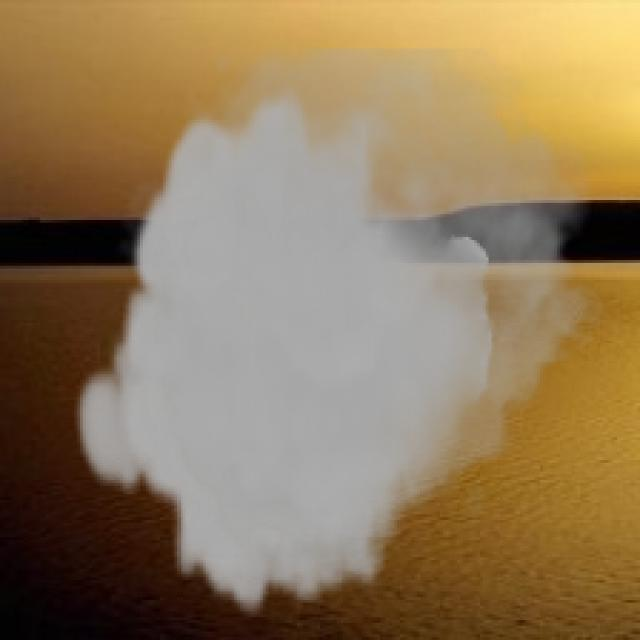Smoke: (71, 48, 608, 618)
